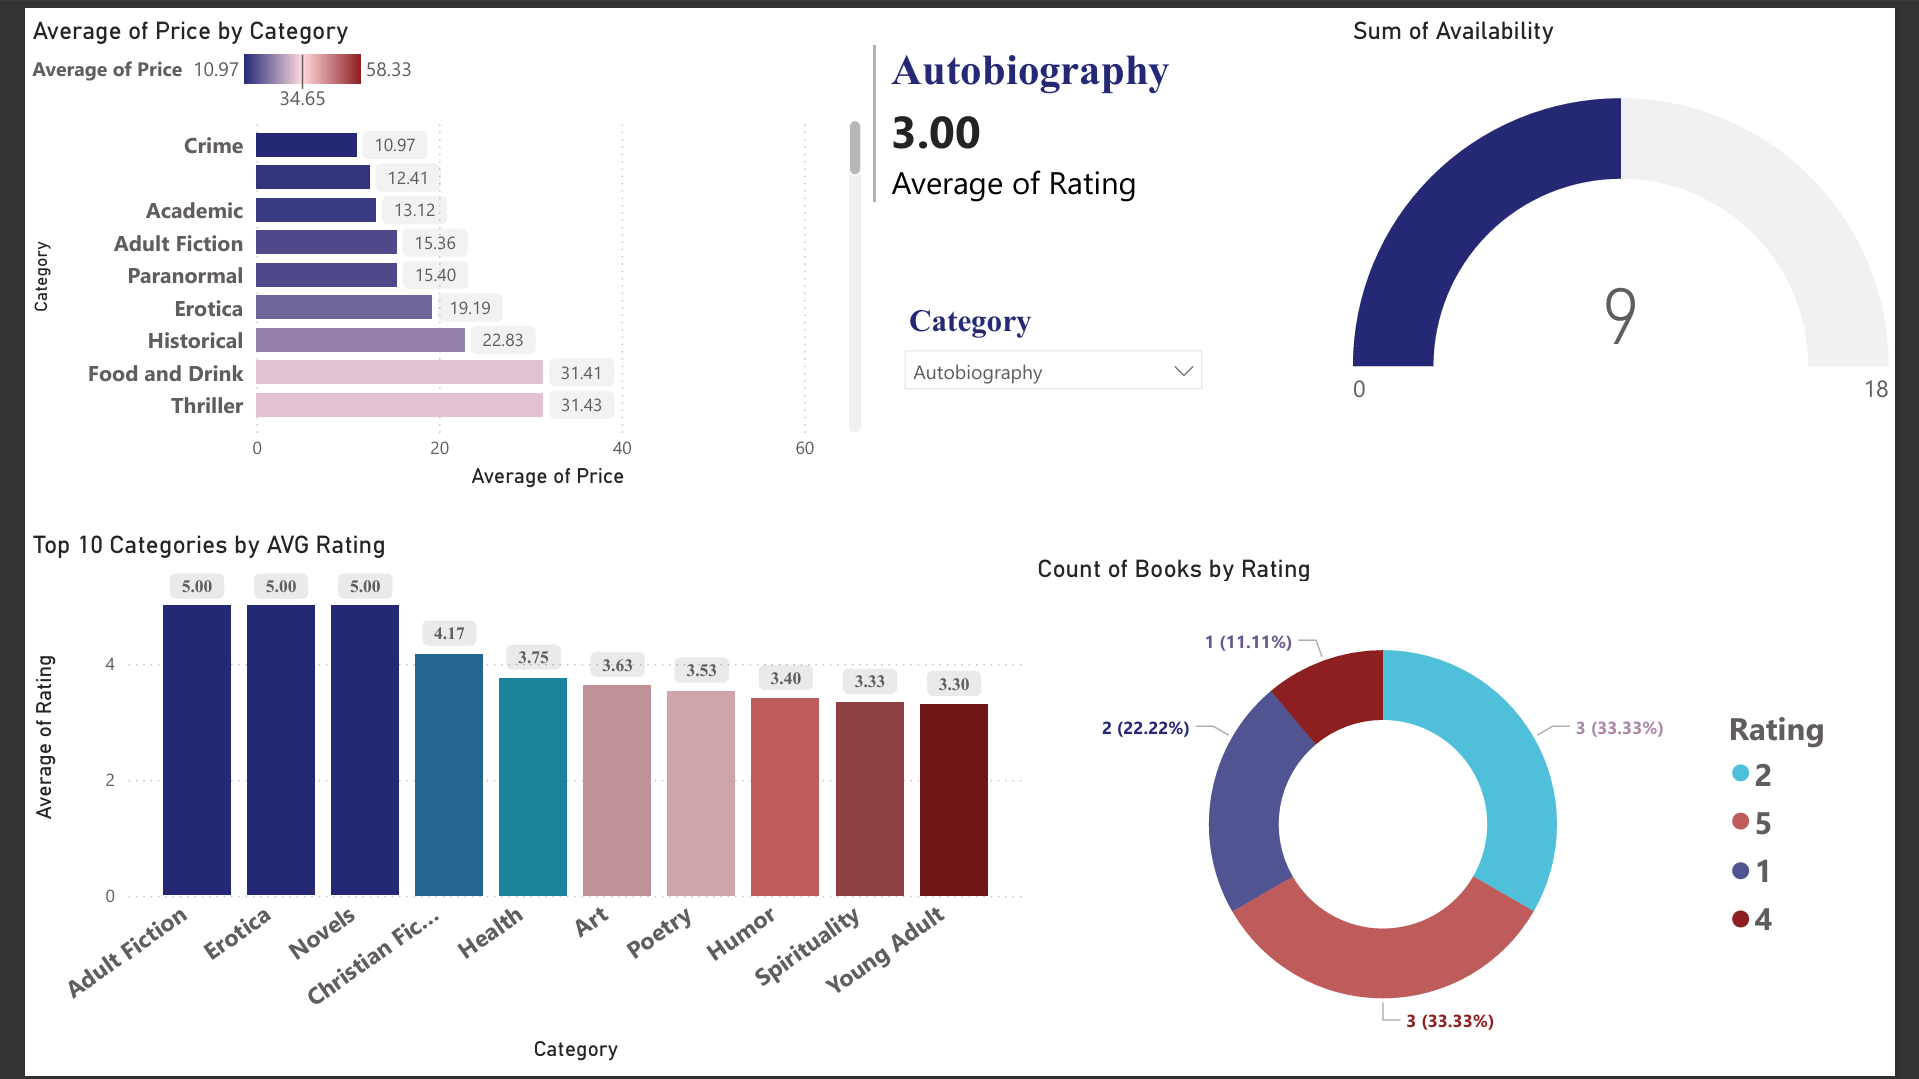

Layout of this report page (visuals, bound fields, positions):
{"tool":"powerbi","page":{"name":"Books analysis","canvas":[1280,720],"ordinal":0},"visuals":[{"type":"clusteredBarChart","fields":{"Category":["Book_multisources_clean.Category"],"Y":["Avg(Book_multisources_clean.Price)"]},"box":[0,0,576,336],"z":0},{"type":"multiRowCard","fields":{"Values":["Book_multisources_clean.Category","Avg(Book_multisources_clean.Rating)"]},"box":[576,16,304,144],"z":1000},{"type":"slicer","fields":{"Values":["Book_multisources_clean.Category"]},"box":[592,192,224,128],"z":1001},{"type":"gauge","fields":{"Y":["Sum(Book_multisources_clean.Availability)"]},"box":[903.4,0,376.6,309.4],"z":1002},{"type":"columnChart","title":"Top 10 Categories by AVG Rating","fields":{"Category":["Book_multisources_clean.Category"],"Y":["Avg(Book_multisources_clean.Rating)"]},"box":[0,352,688,368],"z":1003},{"type":"donutChart","title":"Count of Books by Rating","fields":{"Y":["CountNonNull(Book_multisources_clean.Book Title)"],"Category":["Book_multisources_clean.Rating"]},"box":[704,368,576,352],"z":1004}]}

Visuals, with their boxes in screenshot pixels (x1, y1, x2, y2), scaled from the page's 1280x720 canvas onto the 1919x1079 screenshot:
clusteredBarChart - Book_multisources_clean.Category x Avg(Book_multisources_clean.Price): <bbox>0, 0, 864, 504</bbox>
multiRowCard - Book_multisources_clean.Category x Avg(Book_multisources_clean.Rating): <bbox>864, 24, 1319, 240</bbox>
slicer - Book_multisources_clean.Category: <bbox>888, 288, 1223, 480</bbox>
gauge - Sum(Book_multisources_clean.Availability): <bbox>1354, 0, 1918, 464</bbox>
"Top 10 Categories by AVG Rating" columnChart: <bbox>0, 528, 1031, 1078</bbox>
"Count of Books by Rating" donutChart: <bbox>1055, 551, 1918, 1078</bbox>
